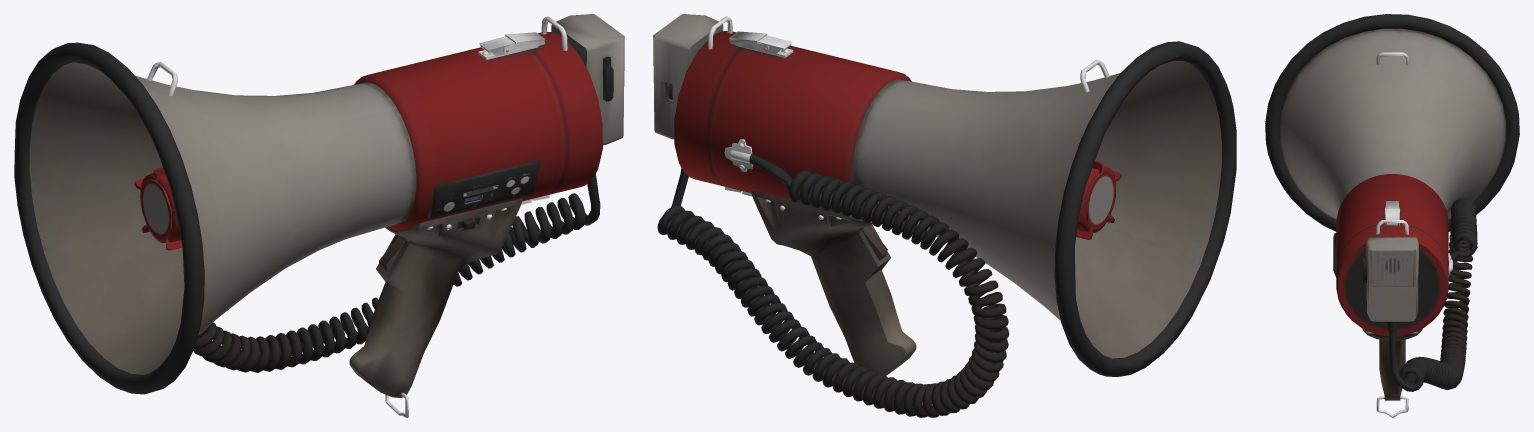
File: Megaphone_01_512.glb
3 renders of one model, left to right at view 1: azimuth 30°, elevation 25°; view 2: azimuth 150°, elevation 25°; view 3: azimuth 270°, elevation 25°, orthographic. The views are drawn at different scales.
Parts seen in each view (by area): view 1: Megaphone_01; view 2: Megaphone_01; view 3: Megaphone_01.
Boxes of the visible parts, bbox=[...] form: Megaphone_01: bbox=[14, 14, 624, 417]; Megaphone_01: bbox=[653, 14, 1236, 417]; Megaphone_01: bbox=[1265, 14, 1519, 417].
Bounding box in the file's own units: 0.3707 × 0.3001 × 0.2284.
1 material, 1 textured.
